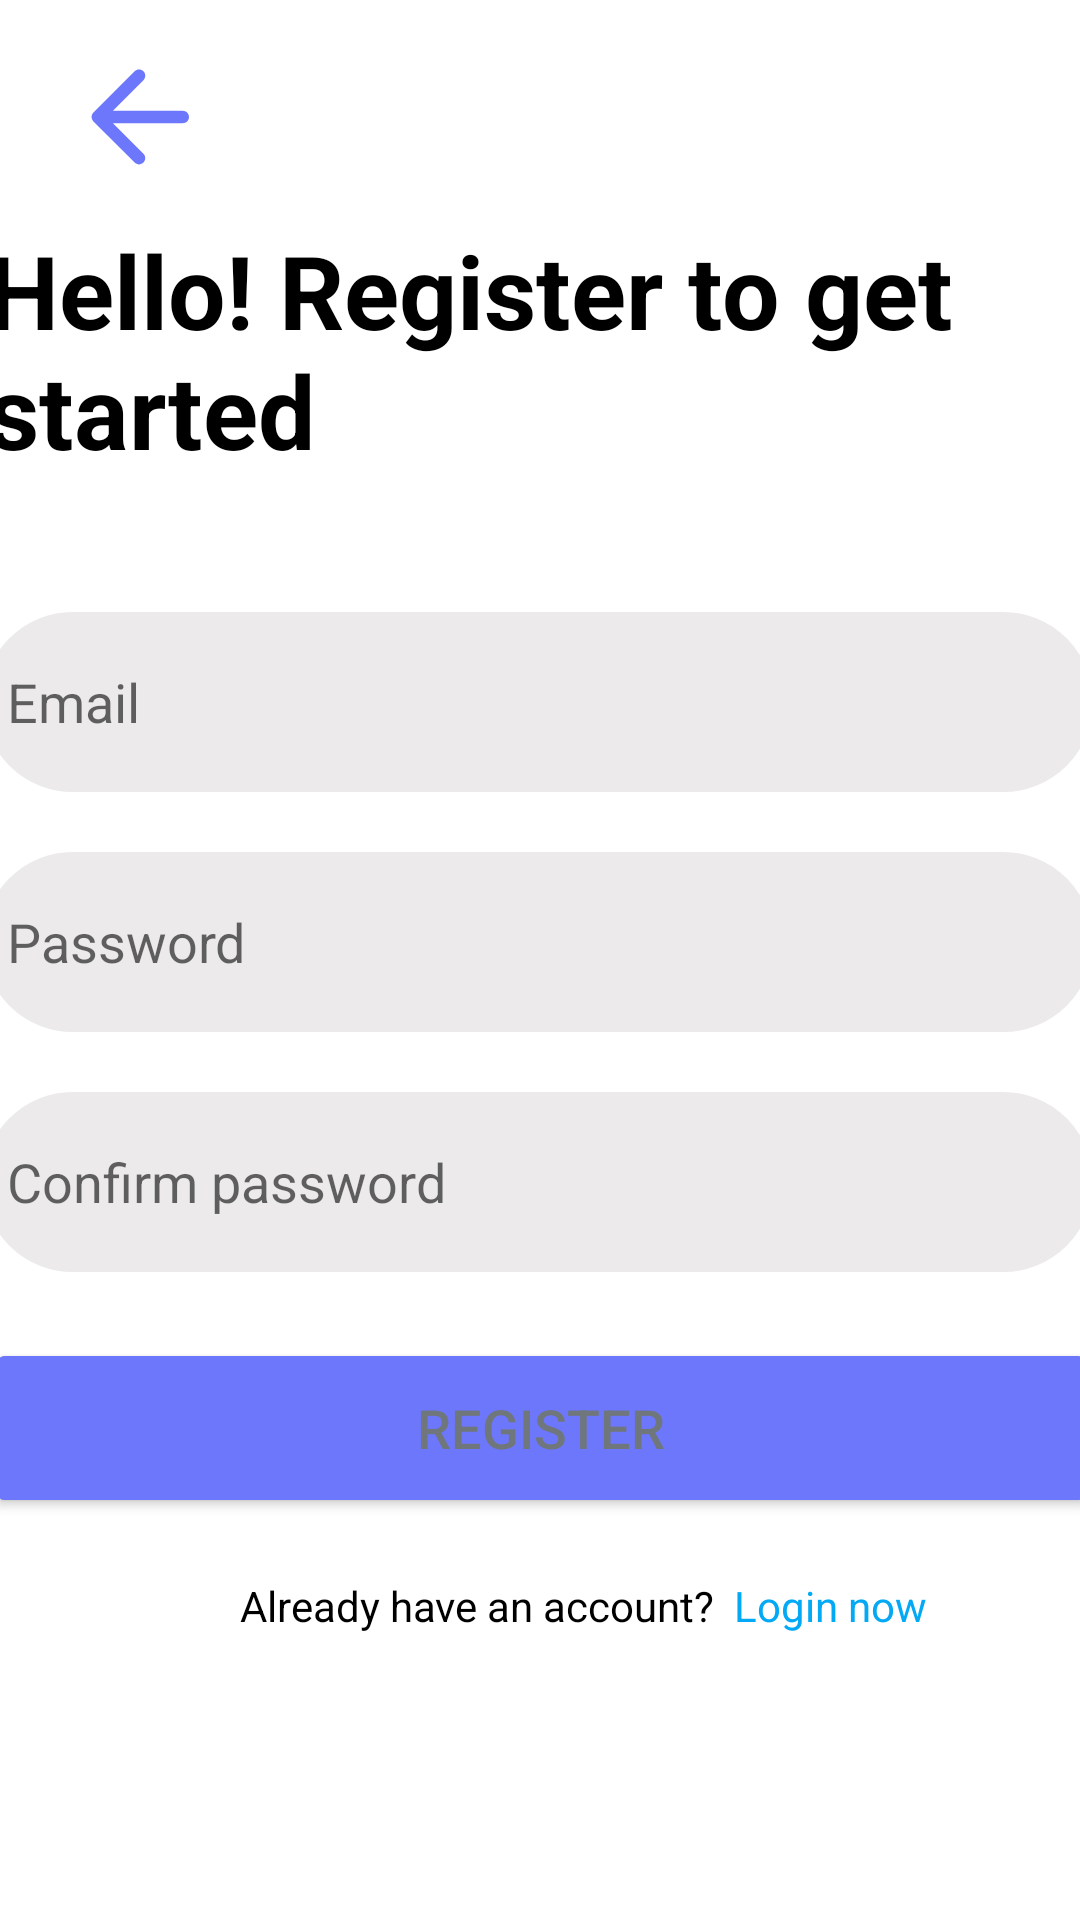

Where icons sit on this 1080px×1920px app screen, as BBox(x1, y1, x2, y2):
arrow back: BBox(91, 69, 189, 165)
